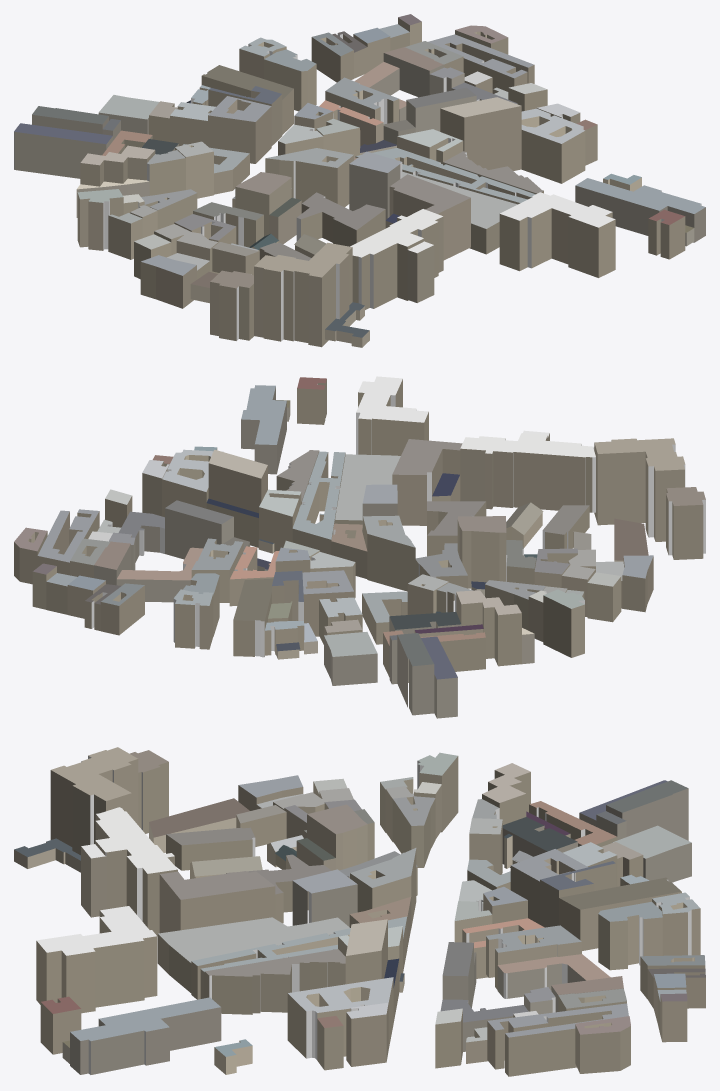
The picture shows the model from 3 angles, top to bottom: view 1: azimuth 30°, elevation 25°; view 2: azimuth 150°, elevation 25°; view 3: azimuth 270°, elevation 25°; orthographic projection. The views are drawn at different scales.
Parts seen in each view (by area): view 1: tuile; view 2: tuile; view 3: tuile.
Boxes of the visible parts, x1,y1,x2,y2 form: tuile: (14, 14, 705, 347); tuile: (14, 376, 705, 718); tuile: (14, 747, 705, 1076).
Bounding box in the file's own units: 268 × 39.9 × 278.
